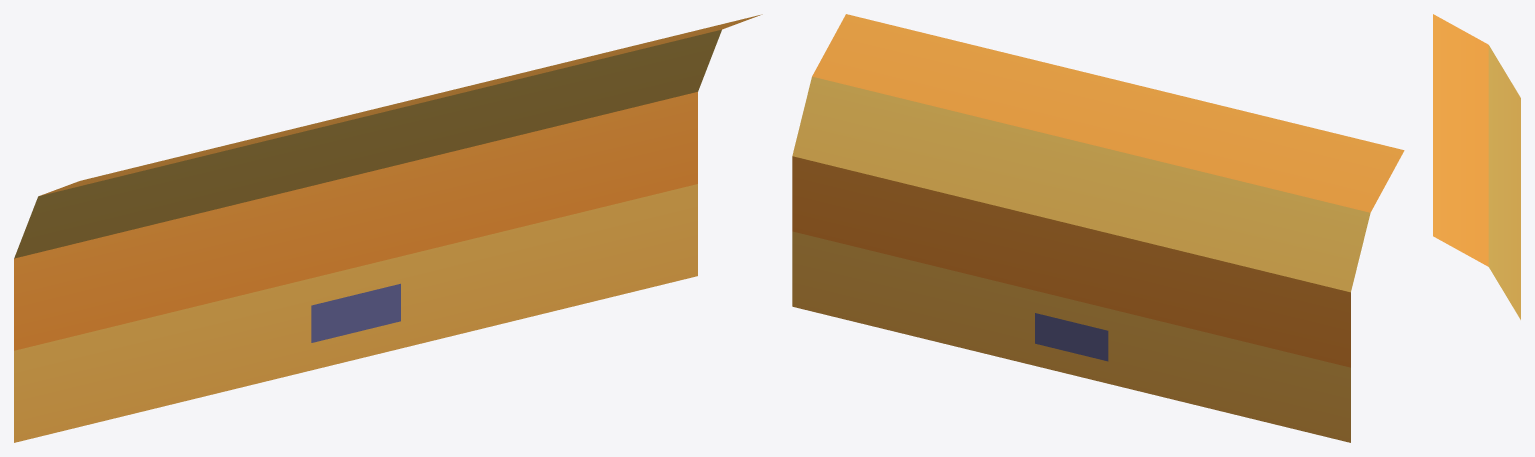
Rendered from door-wide-open.fbx.
3 views of the same model, side by side, from view 1: azimuth 30°, elevation 25°; view 2: azimuth 150°, elevation 25°; view 3: azimuth 270°, elevation 25° (orthographic). The views are drawn at different scales.
Visible parts, largest first — view 1: door-wide-open; view 2: door-wide-open; view 3: door-wide-open.
Part boxes in pixels (left/top/right/bottom): door-wide-open: left=14, top=14, right=762, bottom=442; door-wide-open: left=792, top=14, right=1404, bottom=442; door-wide-open: left=1433, top=14, right=1520, bottom=319.
Bounding box in the file's own units: 180 × 78.02 × 30.
1 material, 1 textured.
